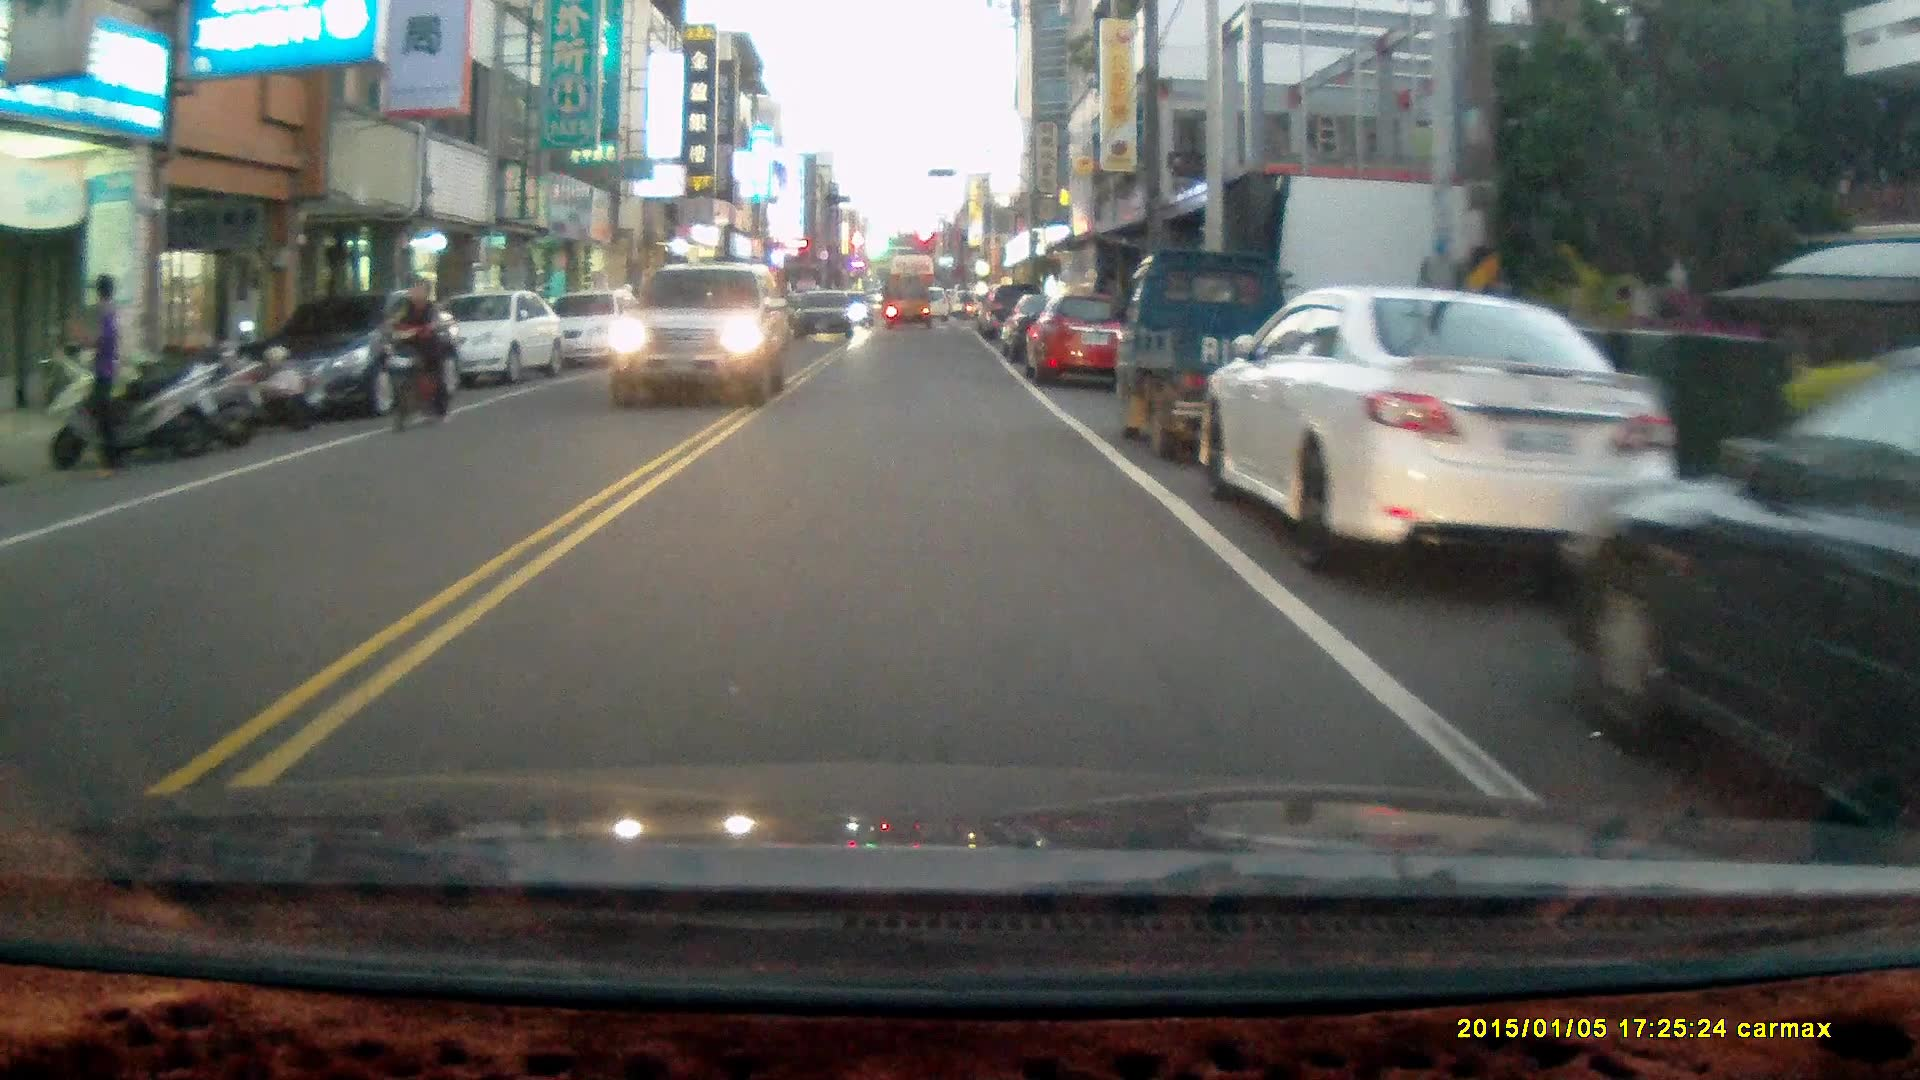pedestrian: (61, 271, 122, 486)
rider: (380, 272, 452, 432)
vehicle: (1574, 362, 1920, 853), (1192, 280, 1683, 582), (1116, 245, 1332, 467), (237, 285, 455, 418), (607, 259, 789, 416), (402, 289, 564, 392), (1029, 292, 1129, 392), (789, 292, 859, 343), (883, 276, 936, 333)
